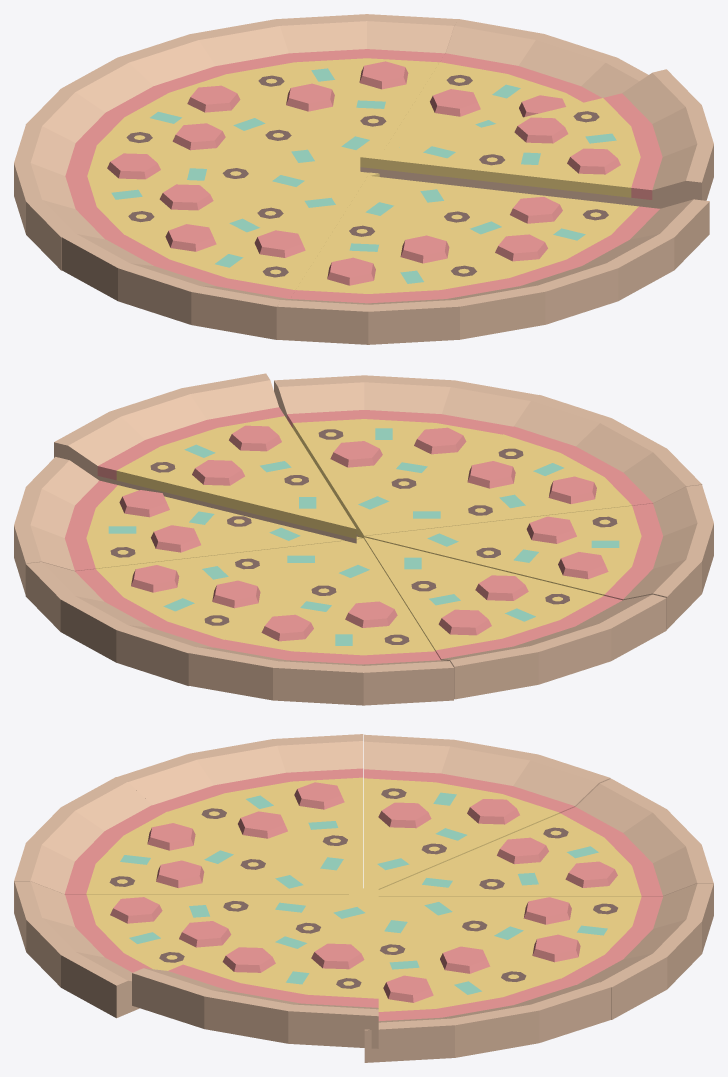
The model's file is pizza.glb.
The picture shows the model from 3 angles, top to bottom: view 1: azimuth 30°, elevation 25°; view 2: azimuth 150°, elevation 25°; view 3: azimuth 270°, elevation 25°; orthographic projection.
Visible parts, largest first — view 1: slice0, slice2, slice3, slice1, slice6, slice5, slice4, slice7; view 2: slice0, slice5, slice4, slice1, slice6, slice2, slice3, slice7; view 3: slice0, slice7, slice4, slice3, slice6, slice5, slice2, slice1.
Boxes of the visible parts, x1=… form: slice0: x1=360, y1=69, x2=713, y2=208; slice2: x1=276, y1=175, x2=545, y2=344; slice3: x1=61, y1=176, x2=367, y2=339; slice1: x1=369, y1=176, x2=709, y2=324; slice6: x1=191, y1=14, x2=458, y2=175; slice5: x1=26, y1=34, x2=365, y2=175; slice4: x1=14, y1=124, x2=365, y2=270; slice7: x1=368, y1=19, x2=648, y2=176; slice0: x1=54, y1=373, x2=356, y2=543; slice5: x1=188, y1=538, x2=453, y2=705; slice4: x1=364, y1=537, x2=666, y2=699; slice1: x1=274, y1=375, x2=538, y2=538; slice6: x1=25, y1=538, x2=362, y2=685; slice2: x1=365, y1=395, x2=702, y2=535; slice3: x1=364, y1=485, x2=713, y2=629; slice7: x1=14, y1=457, x2=363, y2=594; slice0: x1=132, y1=882, x2=378, y2=1048; slice7: x1=364, y1=902, x2=611, y2=1062; slice4: x1=364, y1=734, x2=610, y2=889; slice3: x1=117, y1=734, x2=363, y2=891; slice6: x1=378, y1=883, x2=713, y2=1019; slice5: x1=378, y1=778, x2=713, y2=896; slice2: x1=14, y1=777, x2=355, y2=913; slice1: x1=14, y1=881, x2=347, y2=1018.
Size of the model in its own units: 0.8418 by 0.0626 by 0.8446.
